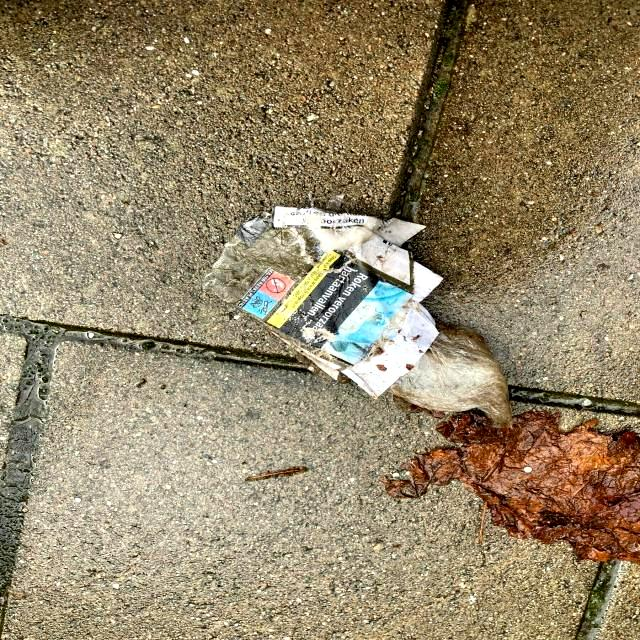Paper: (199, 203, 445, 401)
